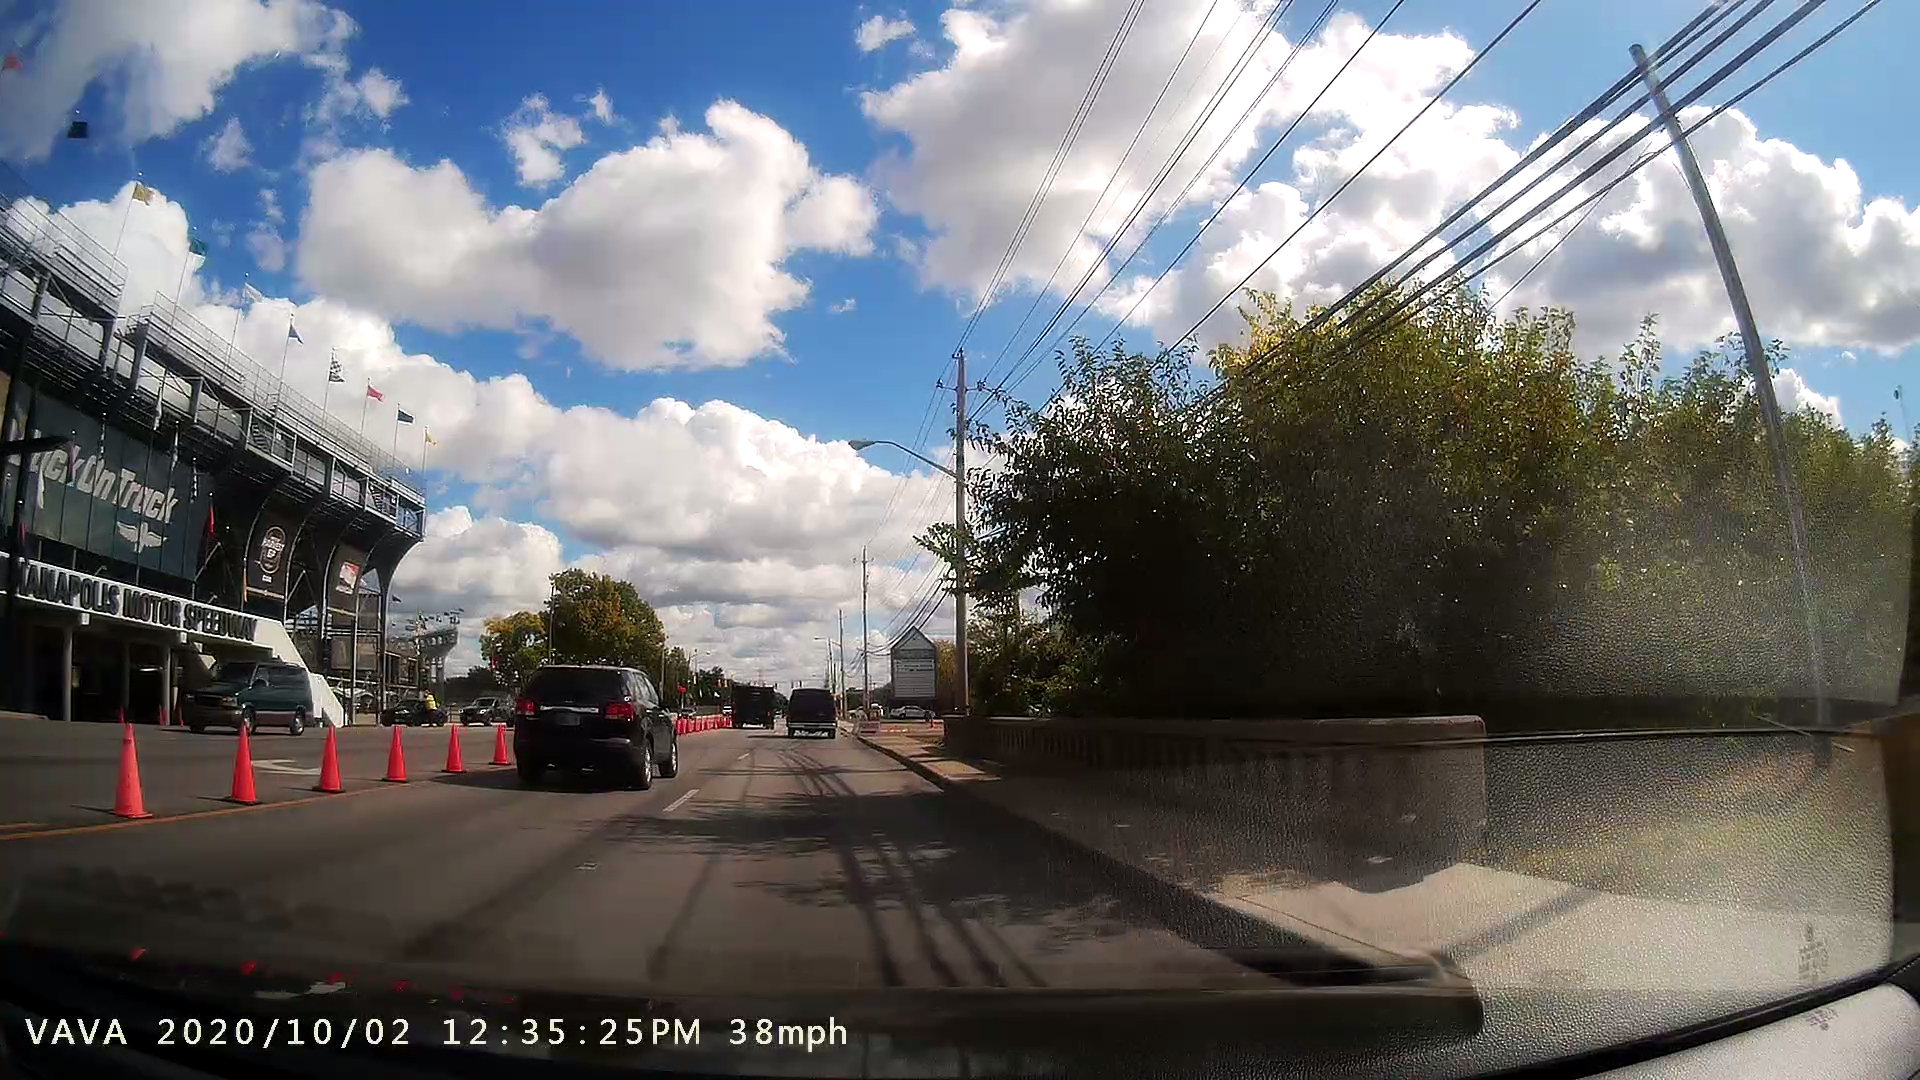const_cone: (94, 709, 162, 825), (218, 717, 269, 811), (302, 723, 352, 799), (377, 719, 419, 789), (438, 713, 469, 781), (489, 711, 506, 770)
